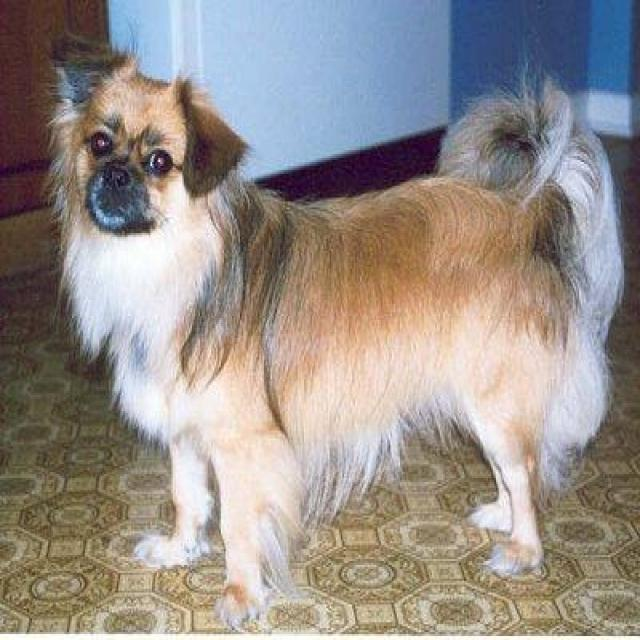good: (40, 22, 622, 616)
